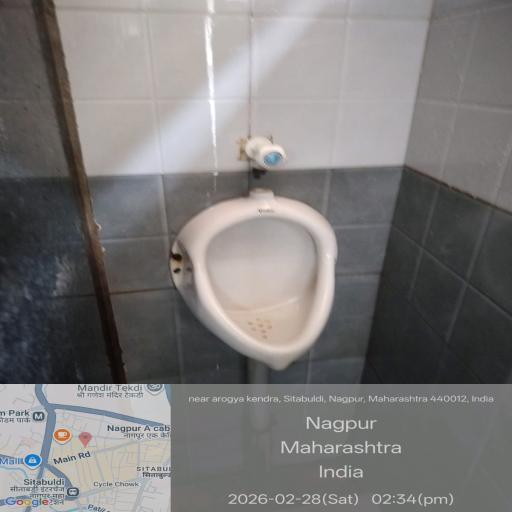clean_floor: (36, 34, 432, 154)
clean_urinal: (162, 205, 404, 375)
